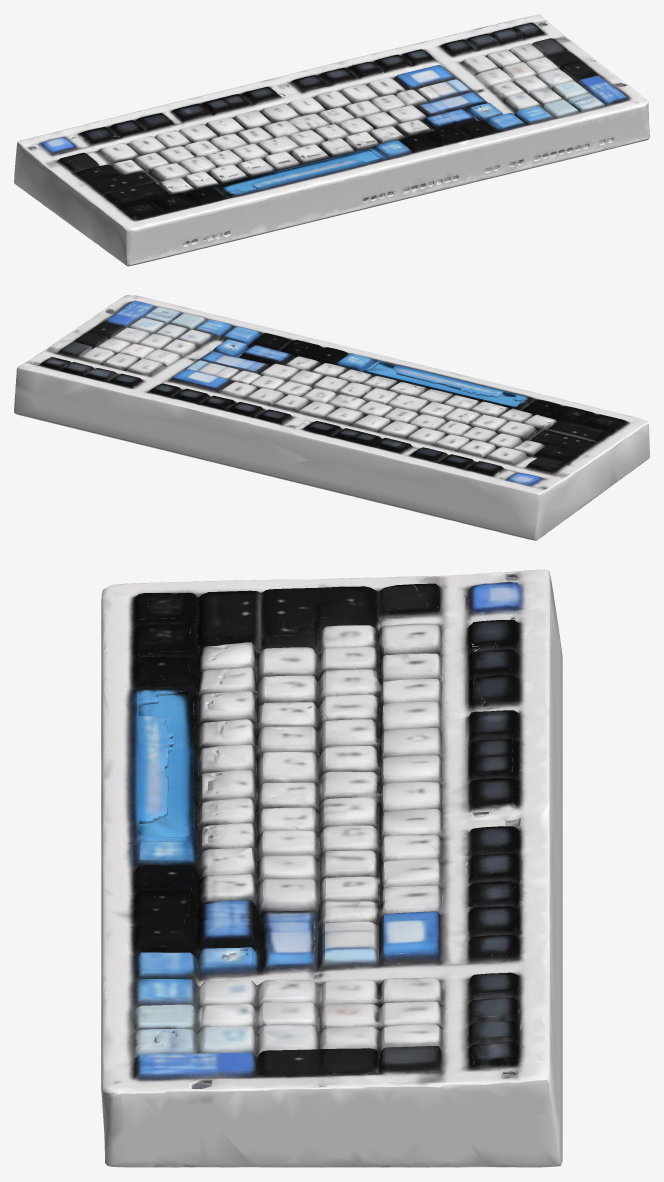
The model's file is vgn-v98-pro-v2.glb.
The picture shows the model from 3 angles, top to bottom: view 1: azimuth 30°, elevation 25°; view 2: azimuth 150°, elevation 25°; view 3: azimuth 270°, elevation 25°; orthographic projection. The views are drawn at different scales.
Parts seen in each view (by area): view 1: world; view 2: world; view 3: world.
Boxes of the visible parts, bbox=[...] form: world: bbox=[14, 14, 649, 266]; world: bbox=[14, 295, 649, 540]; world: bbox=[101, 569, 562, 1167].
Size of the model in its own units: 0.388 by 0.0339 by 0.148.
Materials: 1 (1 with a texture image).
